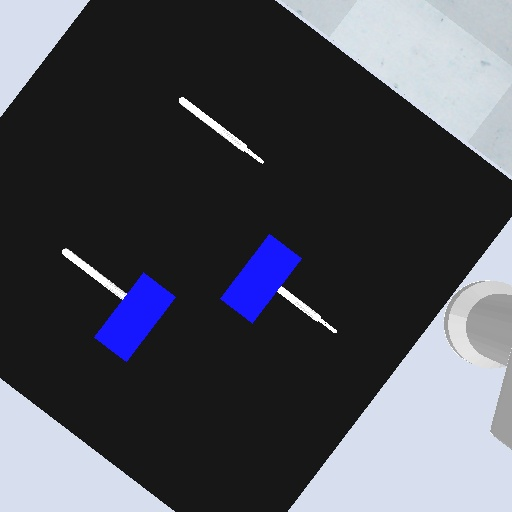bisturi: (175, 94, 269, 169), (56, 245, 130, 304), (275, 284, 344, 338)
